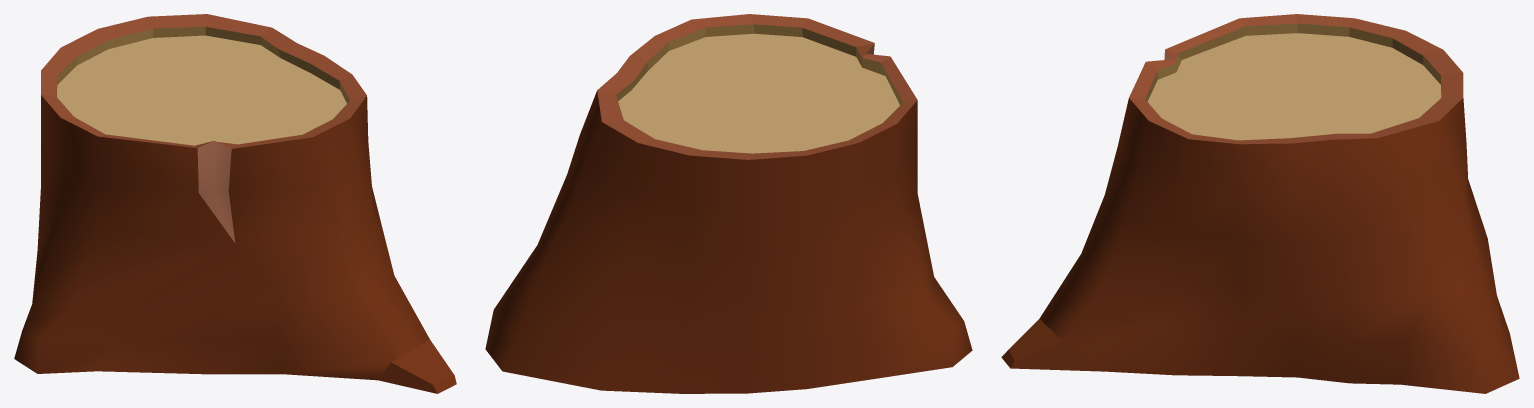
Rendered from Sem4_Environment_Baumstumpf02_JT_M (1) 1.fbx.
The picture shows the model from 3 angles, left to right: view 1: azimuth 30°, elevation 25°; view 2: azimuth 150°, elevation 25°; view 3: azimuth 270°, elevation 25°; orthographic projection. The views are drawn at different scales.
Visible parts, largest first — view 1: Baumstumpf_f001; view 2: Baumstumpf_f001; view 3: Baumstumpf_f001.
Part boxes in pixels (x1,y1,x2,y2): Baumstumpf_f001: [14, 14, 456, 393]; Baumstumpf_f001: [485, 14, 972, 393]; Baumstumpf_f001: [1001, 14, 1519, 393].
Bounding box in the file's own units: 98.87 × 60.03 × 123.
